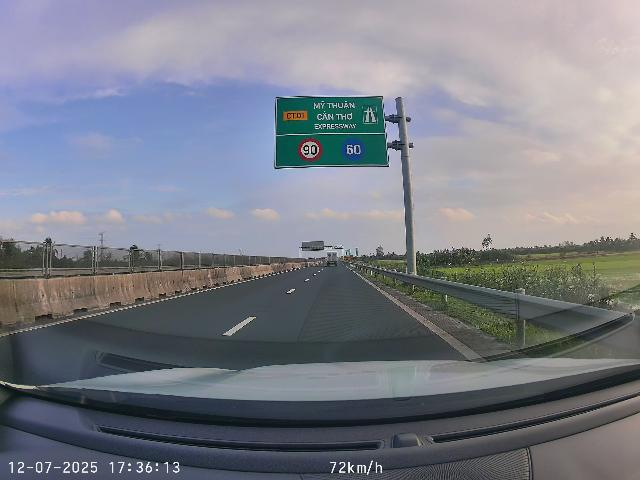127-toc-do-toi-da-90: (297, 138, 323, 162)
306-toc-do-toi-thieu-60: (340, 137, 366, 161)
437-bat-dau-duong-cao-toc: (361, 104, 379, 125)
